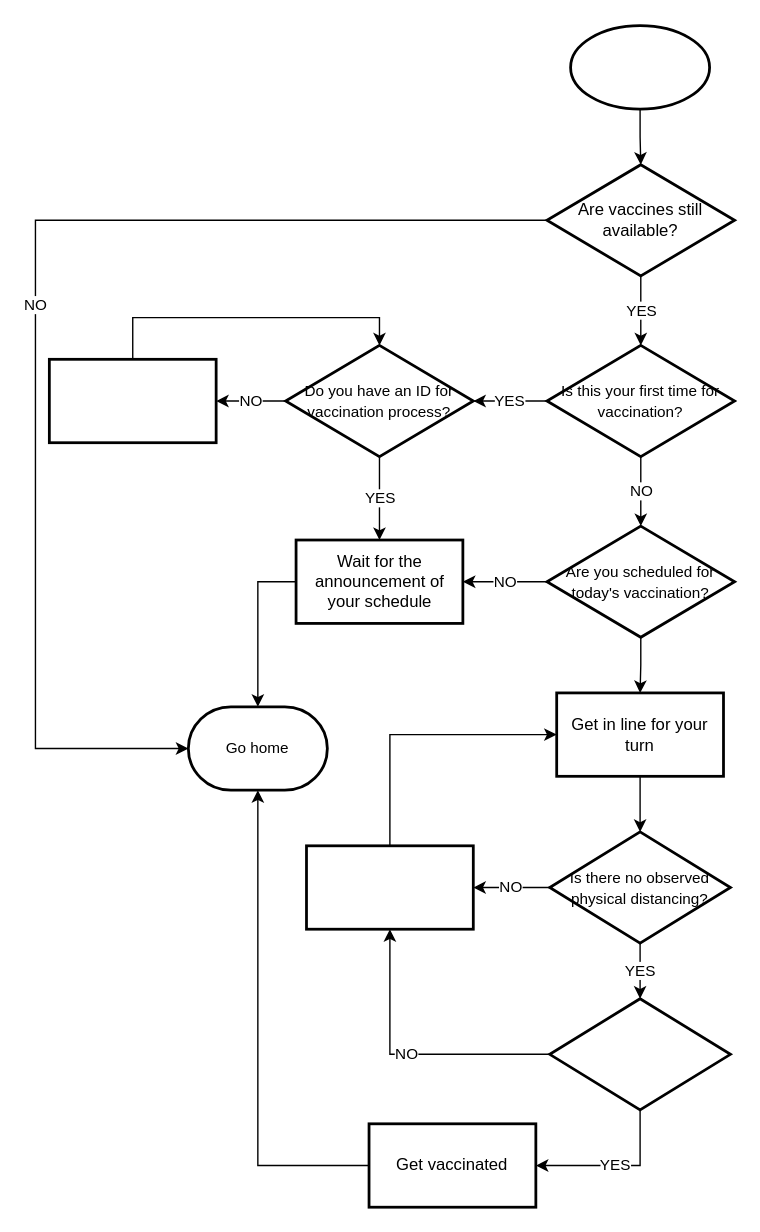
Image size: 760x1232. Some labels were removed from this diagram. The shapes that lost their labels are listed below. From the top down, each one's centre as x and y in pixels, then its label:
At (639,67): "Go to vaccination site".
At (132,400): "Prepare your ID for vaccination".
At (389,887): "Come back later".
At (639,1054): "Did you already have a meal?".
